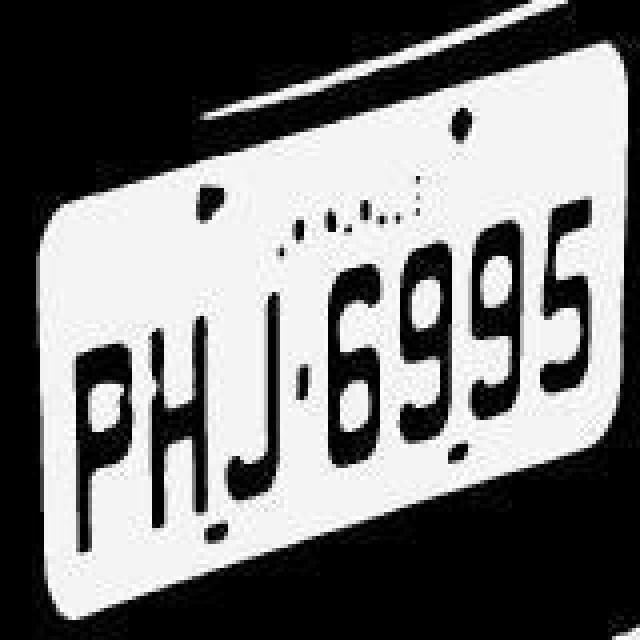5: (536, 180, 600, 396)
6: (320, 254, 384, 466)
9: (466, 208, 534, 424), (392, 234, 456, 446)
H: (140, 298, 212, 526)
J: (214, 278, 282, 506)
P: (64, 328, 136, 552)
